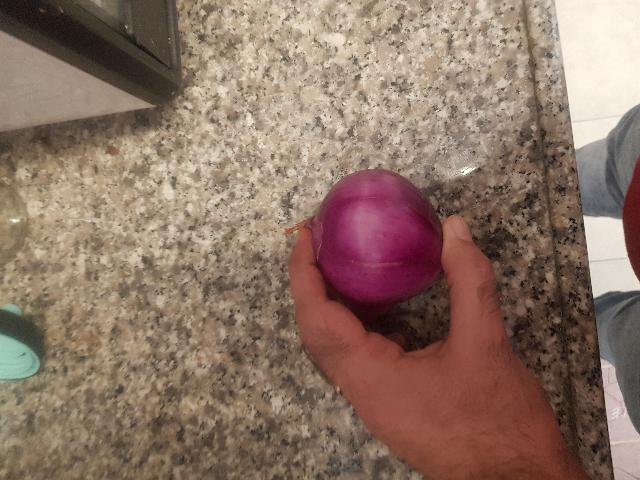onion: (300, 169, 443, 295)
